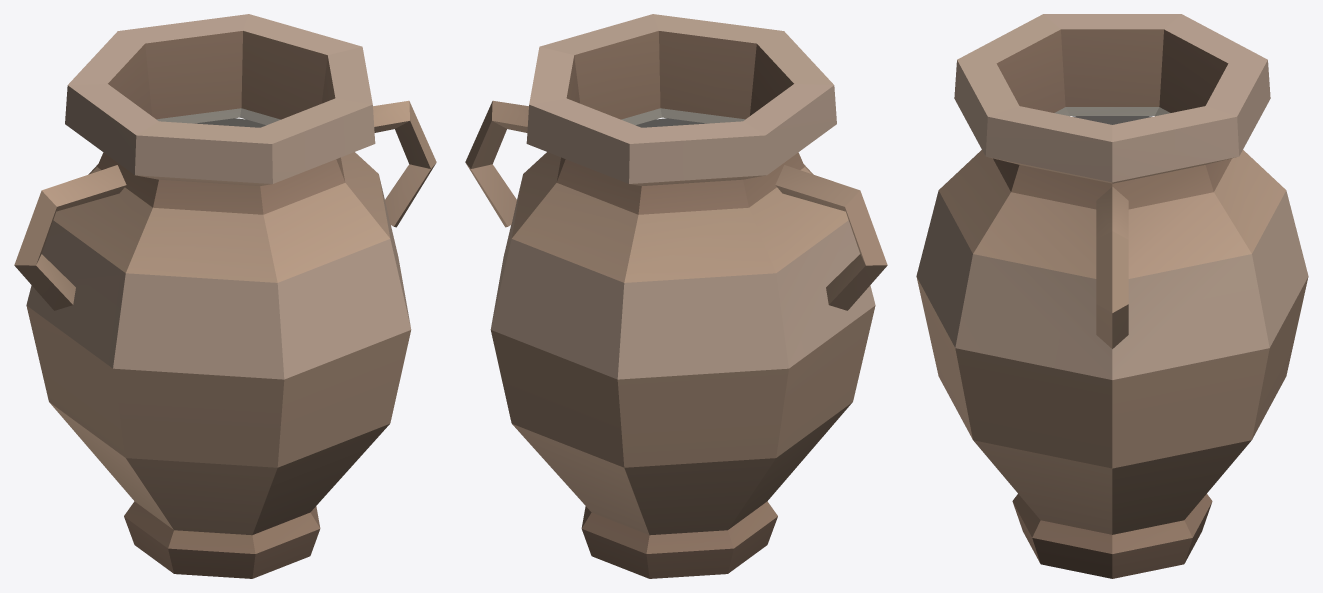
Rendered from pot.lod1.glb.
3 views of the same model, side by side, from view 1: azimuth 30°, elevation 25°; view 2: azimuth 150°, elevation 25°; view 3: azimuth 270°, elevation 25° (orthographic).
Bounding box in the file's own units: 0.9092 × 0.95 × 0.7254.
